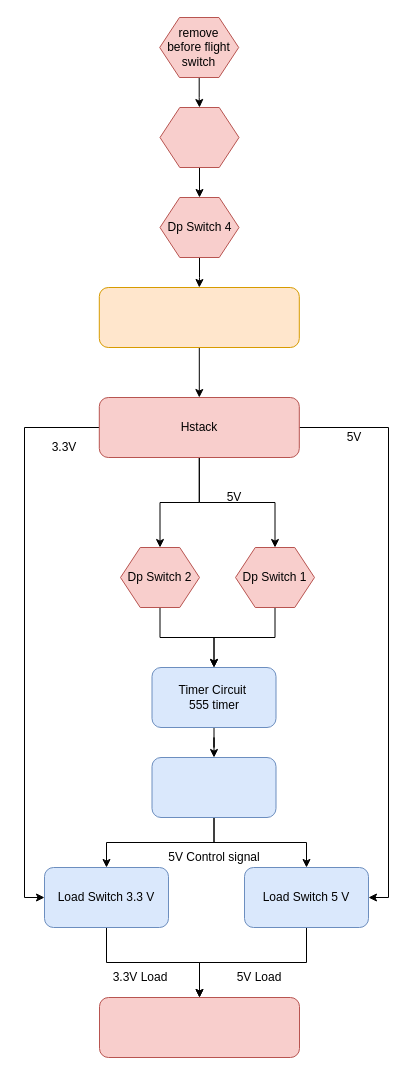
The diagram is 414 pixels wide and 1075 high, and some of its shapes have lost their labels. Here are the shapes that lost their labels. From the top down, the box of each, then its label:
(159, 106, 239, 168): Dp Switch 3
(98, 286, 299, 348): EPS Unit
(151, 756, 276, 818): Latching circuit 2N3904, 2N3906 BJT
(98, 996, 300, 1058): Picolock Connector
